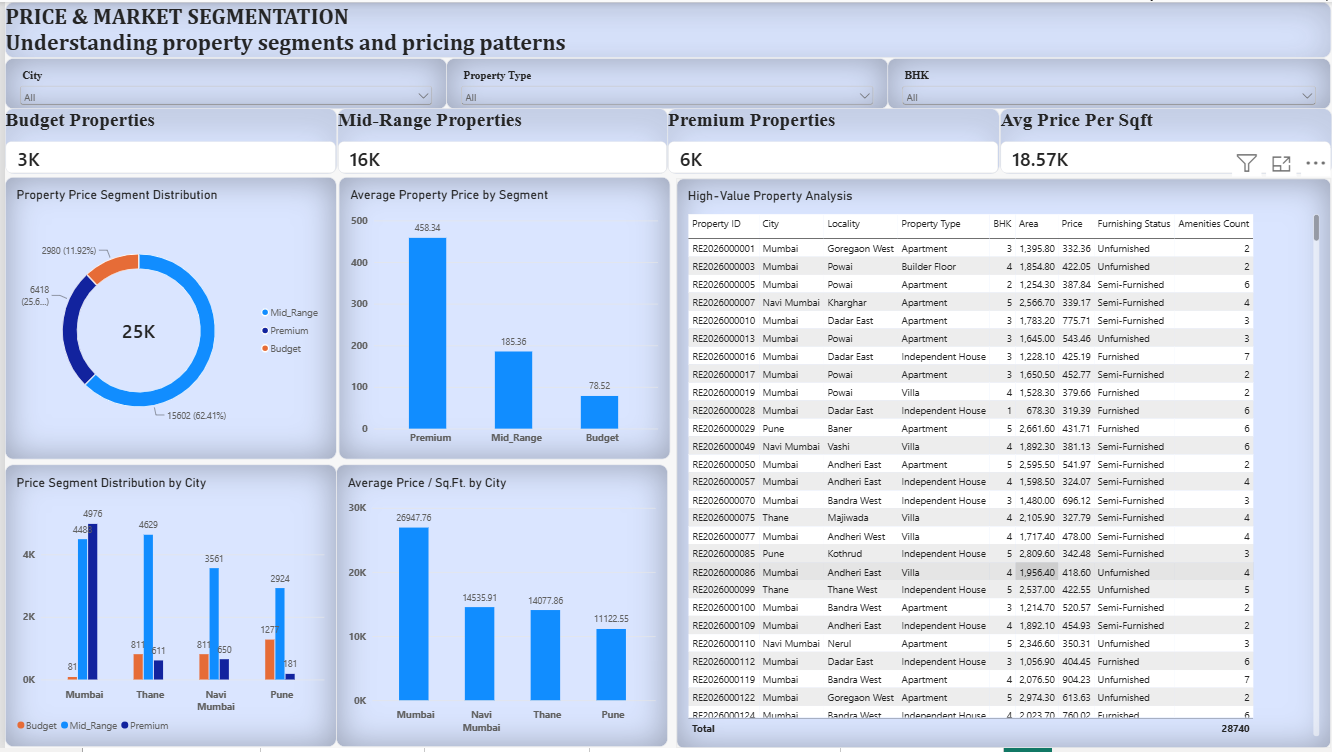

This screenshot's page, from the dashboard's own definition file:
{"tool":"powerbi","page":{"name":"Price & Market Segmentation","canvas":[1920,1080],"ordinal":3},"visuals":[{"type":"textbox","box":[0,0,1920.4,80.7],"z":0},{"type":"slicer","fields":{"Values":["public real_estate.city"]},"box":[0,80.7,640.1,73.4],"z":1000},{"type":"slicer","fields":{"Values":["public real_estate.property_type"]},"box":[638.3,80.7,640.1,73.4],"z":2000},{"type":"slicer","fields":{"Values":["public real_estate.bhk"]},"box":[1278.4,80.7,642,73.4],"z":3000},{"type":"cardVisual","title":"Budget Properties","fields":{"Data":["public real_estate.Budget Properties"]},"box":[0,154.1,480.6,95.4],"z":4000},{"type":"cardVisual","title":"Avg Price Per Sqft","fields":{"Data":["public real_estate.Avg Price Per Sqft"]},"box":[1439.8,154.1,480.6,95.4],"z":5000},{"type":"cardVisual","title":"Premium Properties","fields":{"Data":["public real_estate.Premium Properties"]},"box":[959.3,154.1,480.6,95.4],"z":6000},{"type":"cardVisual","title":"Mid-Range Properties","fields":{"Data":["public real_estate.Mid-Range Properties"]},"box":[480.6,154.1,478.7,95.4],"z":7000},{"type":"donutChart","title":"Property Price Segment Distribution","fields":{"Category":["public real_estate.Price Segment"],"Y":["public real_estate.Total Properties"]},"box":[0,253.9,479.7,409.1],"z":8000},{"type":"clusteredColumnChart","title":"Average Property Price by Segment","fields":{"Category":["public real_estate.Price Segment"],"Y":["public real_estate.Avg Property Price"]},"box":[482.4,253.1,479.7,409.1],"z":9000},{"type":"clusteredColumnChart","title":"Price Segment Distribution by City","fields":{"Category":["public real_estate.city"],"Series":["public real_estate.Price Segment"],"Y":["public real_estate.Total Properties"]},"box":[0,670.1,479.7,409.1],"z":10000},{"type":"clusteredColumnChart","title":"Average Price / Sq.Ft. by City","fields":{"Category":["public real_estate.city"],"Y":["public real_estate.Avg Price Per Sqft"]},"box":[479.7,670.1,479.7,409.1],"z":11000},{"type":"tableEx","title":"High-Value Property Analysis","fields":{"Values":["public real_estate.property_id","public real_estate.city","public real_estate.locality","public real_estate.property_type","public real_estate.bhk","public real_estate.area_sqft","public real_estate.price_inr_lakhs","public real_estate.furnishing_status","Sum(public real_estate.amenities_count)"]},"box":[972.1,254.9,948.3,825.4],"z":12000}]}

Visuals, with their boxes in screenshot pixels (x1, y1, x2, y2), scaled from the page's 1920x1080 canvas onto the 1332x752 screenshot:
textbox: x1=0, y1=0, x2=1331, y2=56
slicer - public real_estate.city: x1=0, y1=56, x2=444, y2=107
slicer - public real_estate.property_type: x1=443, y1=56, x2=887, y2=107
slicer - public real_estate.bhk: x1=887, y1=56, x2=1331, y2=107
"Budget Properties" cardVisual: x1=0, y1=107, x2=333, y2=174
"Avg Price Per Sqft" cardVisual: x1=999, y1=107, x2=1331, y2=174
"Premium Properties" cardVisual: x1=666, y1=107, x2=999, y2=174
"Mid-Range Properties" cardVisual: x1=333, y1=107, x2=666, y2=174
"Property Price Segment Distribution" donutChart: x1=0, y1=177, x2=333, y2=462
"Average Property Price by Segment" clusteredColumnChart: x1=335, y1=176, x2=667, y2=461
"Price Segment Distribution by City" clusteredColumnChart: x1=0, y1=467, x2=333, y2=751
"Average Price / Sq.Ft. by City" clusteredColumnChart: x1=333, y1=467, x2=666, y2=751
"High-Value Property Analysis" tableEx: x1=674, y1=177, x2=1331, y2=751
